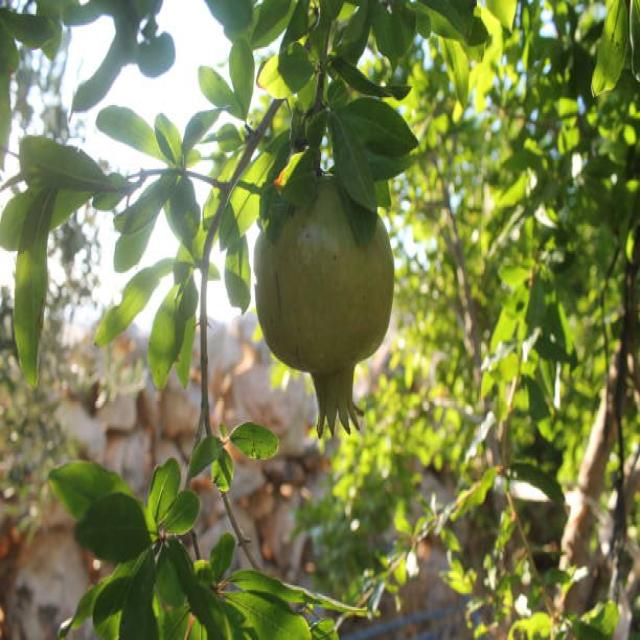Unripe: (254, 171, 394, 443)
